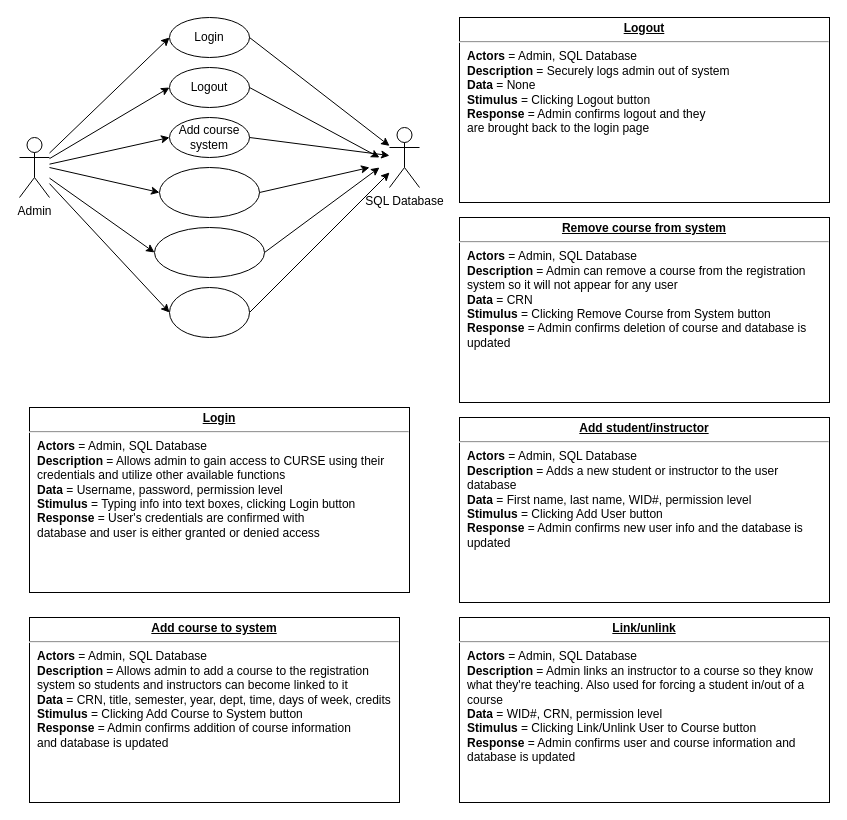
Image size: 847x820. Some labels were removed from this diagram. Here are the shapes that lost their labels. From the top down, the box of each, then its label:
(158, 166, 260, 218): Remove course system
(154, 226, 264, 278): Add student/instructor
(168, 286, 250, 338): Link/unlink
